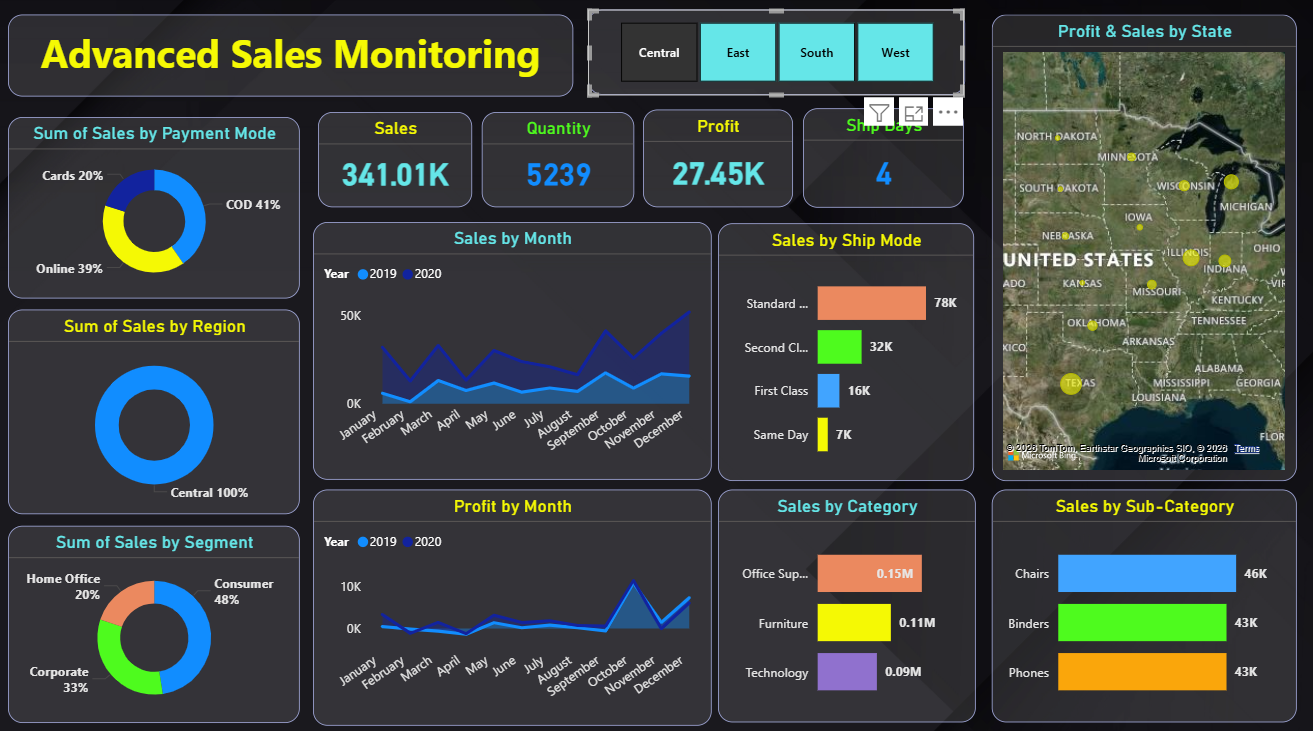

What the dashboard file says about the page in this screenshot:
{"tool":"powerbi","page":{"name":"Page 1","canvas":[1280,720],"ordinal":0},"visuals":[{"type":"barChart","title":" Sales by Category","fields":{"Y":["Sum(SuperStore_Sales_Dataset.Sales)"],"Category":["SuperStore_Sales_Dataset.Category"]},"box":[700,475,248.6,225],"z":0},{"type":"barChart","title":" Sales by Sub-Category","fields":{"Y":["Sum(SuperStore_Sales_Dataset.Sales)"],"Category":["SuperStore_Sales_Dataset.Sub-Category"]},"box":[963.9,475,294.4,225],"z":1000},{"type":"barChart","title":" Sales by Ship Mode","fields":{"Y":["Sum(SuperStore_Sales_Dataset.Sales)"],"Category":["SuperStore_Sales_Dataset.Ship Mode"]},"box":[700,218.1,247.2,248.6],"z":2000},{"type":"stackedAreaChart","title":"Sales by Month","fields":{"Y":["Sum(SuperStore_Sales_Dataset.Sales)"],"Category":["SuperStore_Sales_Dataset.Order Date.Variation.Date Hierarchy.Month","SuperStore_Sales_Dataset.Order Date.Variation.Date Hierarchy.Day"],"Series":["SuperStore_Sales_Dataset.Order Date.Variation.Date Hierarchy.Year"]},"box":[308.3,216.7,384.7,248.6],"z":3000},{"type":"stackedAreaChart","title":"Profit by Month","fields":{"Category":["SuperStore_Sales_Dataset.Order Date.Variation.Date Hierarchy.Month","SuperStore_Sales_Dataset.Order Date.Variation.Date Hierarchy.Day"],"Series":["SuperStore_Sales_Dataset.Order Date.Variation.Date Hierarchy.Year"],"Y":["Sum(SuperStore_Sales_Dataset.Profit)"]},"box":[308.3,475,384.7,227.8],"z":4000},{"type":"map","title":"Profit & Sales by State","fields":{"Size":["Sum(SuperStore_Sales_Dataset.Sales)"],"Category":["SuperStore_Sales_Dataset.State"]},"box":[963.9,16.7,294.4,450],"z":5000},{"type":"donutChart","fields":{"Category":["SuperStore_Sales_Dataset.Segment"],"Y":["Sum(SuperStore_Sales_Dataset.Sales)"]},"box":[13.9,509.7,281.9,190.3],"z":6000},{"type":"donutChart","fields":{"Y":["Sum(SuperStore_Sales_Dataset.Sales)"],"Category":["SuperStore_Sales_Dataset.Payment Mode"]},"box":[13.9,115.3,281.9,175],"z":7000},{"type":"slicer","fields":{"Values":["SuperStore_Sales_Dataset.Region"]},"box":[573.8,12.5,363.8,82.5],"z":8000},{"type":"textbox","box":[13.9,16.7,545.8,79.2],"z":9000},{"type":"card","title":"Sales","fields":{"Values":["Sum(SuperStore_Sales_Dataset.Sales)"]},"box":[313.9,111.1,148.6,91.7],"z":10000},{"type":"card","title":"Quantity","fields":{"Values":["Sum(SuperStore_Sales_Dataset.Quantity)"]},"box":[472.2,111.1,147.2,91.7],"z":11000},{"type":"card","title":"Profit","fields":{"Values":["Sum(SuperStore_Sales_Dataset.Profit)"]},"box":[627.8,108.3,144.4,94.4],"z":12000},{"type":"card","title":"Ship Days","fields":{"Values":["Avg(SuperStore_Sales_Dataset.AvgDelivery)"]},"box":[781.9,106.9,155.6,95.8],"z":13000},{"type":"donutChart","fields":{"Y":["Sum(SuperStore_Sales_Dataset.Sales)"],"Category":["SuperStore_Sales_Dataset.Region"]},"box":[13.9,301.4,281.9,197.2],"z":14000}]}

Visuals, with their boxes in screenshot pixels (x1, y1, x2, y2), scaled from the page's 1280x720 canvas onto the 1313x731 screenshot:
" Sales by Category" barChart: Rect(718, 482, 973, 711)
" Sales by Sub-Category" barChart: Rect(989, 482, 1291, 711)
" Sales by Ship Mode" barChart: Rect(718, 221, 972, 474)
"Sales by Month" stackedAreaChart: Rect(316, 220, 711, 472)
"Profit by Month" stackedAreaChart: Rect(316, 482, 711, 714)
"Profit & Sales by State" map: Rect(989, 17, 1291, 474)
donutChart - SuperStore_Sales_Dataset.Segment x Sum(SuperStore_Sales_Dataset.Sales): Rect(14, 517, 303, 711)
donutChart - Sum(SuperStore_Sales_Dataset.Sales) x SuperStore_Sales_Dataset.Payment Mode: Rect(14, 117, 303, 295)
slicer - SuperStore_Sales_Dataset.Region: Rect(589, 13, 962, 96)
textbox: Rect(14, 17, 574, 97)
"Sales" card: Rect(322, 113, 474, 206)
"Quantity" card: Rect(484, 113, 635, 206)
"Profit" card: Rect(644, 110, 792, 206)
"Ship Days" card: Rect(802, 109, 962, 206)
donutChart - Sum(SuperStore_Sales_Dataset.Sales) x SuperStore_Sales_Dataset.Region: Rect(14, 306, 303, 506)
